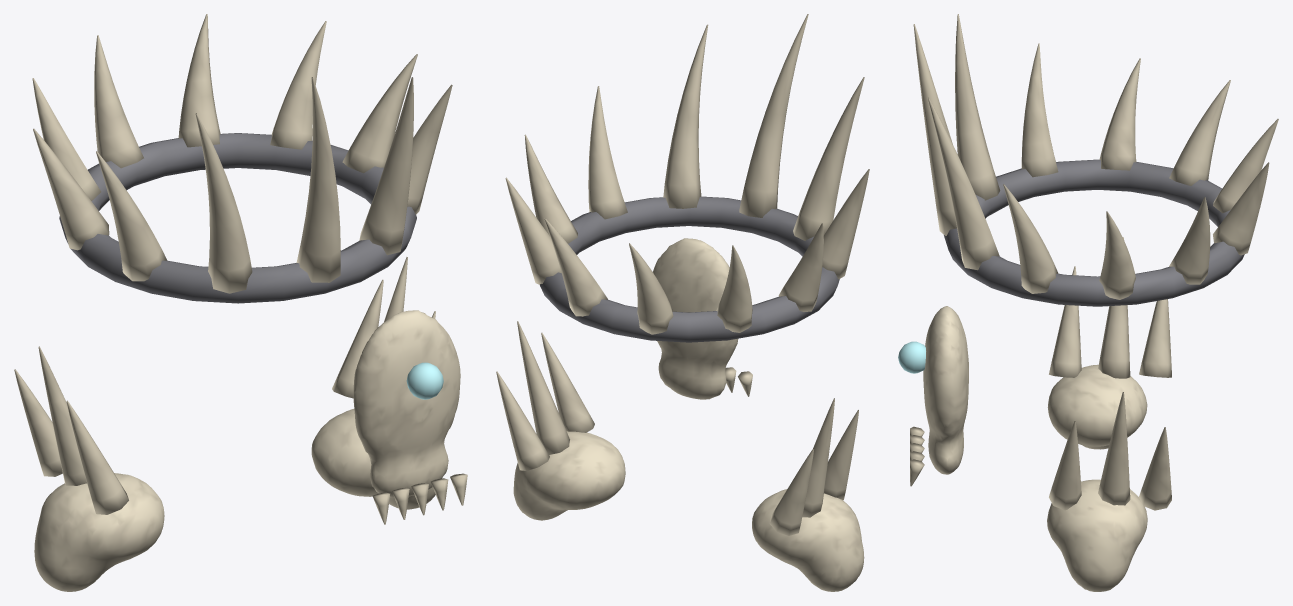
File: HelGear.fbx
The picture shows the model from 3 angles, left to right: view 1: azimuth 30°, elevation 25°; view 2: azimuth 150°, elevation 25°; view 3: azimuth 270°, elevation 25°; orthographic projection. The views are drawn at different scales.
Visible parts, largest first — view 1: Crown@head, Pauldron@upperarm.r, Mask@head, Pauldron@upperarm.l, DeadEye@head; view 2: Crown@head, Pauldron@upperarm.l, Pauldron@upperarm.r, Mask@head; view 3: Crown@head, Pauldron@upperarm.l, Pauldron@upperarm.r, Mask@head, DeadEye@head.
Part boxes in pixels (x1,y1,x2,y2): Crown@head: [32, 14, 452, 303]; Pauldron@upperarm.r: [14, 346, 164, 591]; Mask@head: [353, 310, 467, 524]; Pauldron@upperarm.l: [311, 257, 442, 509]; DeadEye@head: [406, 362, 443, 399]; Crown@head: [505, 14, 869, 342]; Pauldron@upperarm.l: [496, 321, 625, 520]; Pauldron@upperarm.r: [752, 398, 864, 591]; Mask@head: [653, 238, 752, 399]; Crown@head: [913, 14, 1278, 306]; Pauldron@upperarm.l: [1047, 392, 1171, 591]; Pauldron@upperarm.r: [1047, 237, 1171, 449]; Mask@head: [910, 306, 968, 486]; DeadEye@head: [898, 341, 925, 373].
Bounding box in the file's own units: 1.23 × 1.65 × 1.18.
